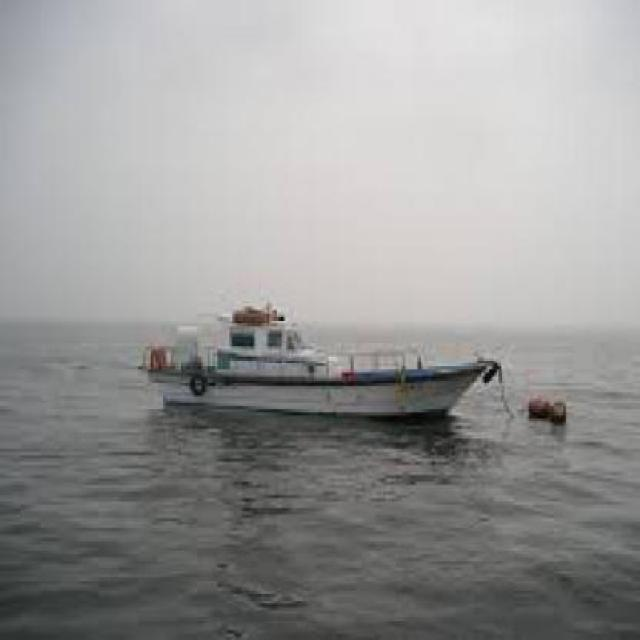fish-b: (127, 284, 518, 453)
